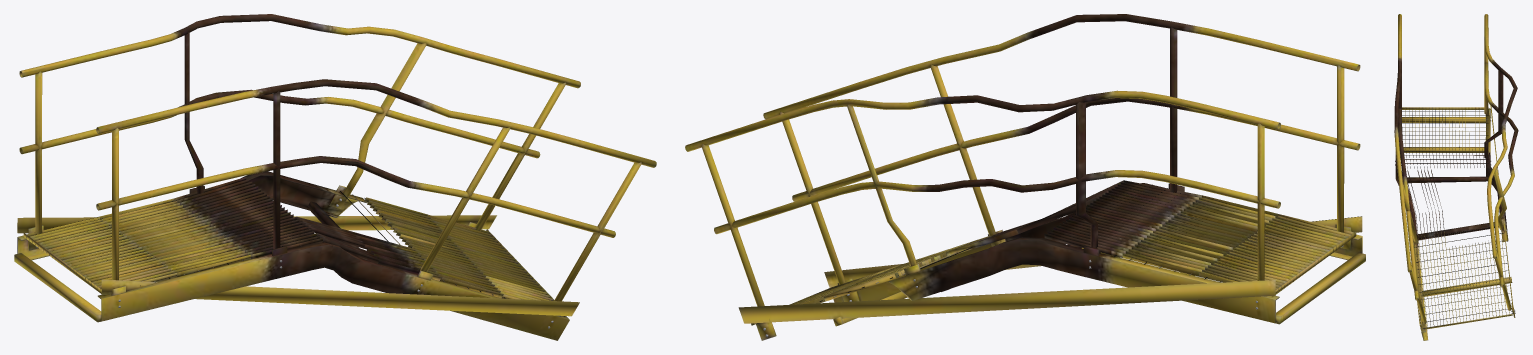
Rendered from industrial_walkway_torn_lod1.glb.
3 views of the same model, side by side, from view 1: azimuth 30°, elevation 25°; view 2: azimuth 150°, elevation 25°; view 3: azimuth 270°, elevation 25° (orthographic). The views are drawn at different scales.
Visible parts, largest first — view 1: industrial_walkway_torn_paint; view 2: industrial_walkway_torn_paint; view 3: industrial_walkway_torn_paint.
Boxes of the visible parts, <box> form: industrial_walkway_torn_paint: <box>14,14,656,340</box>; industrial_walkway_torn_paint: <box>685,14,1365,340</box>; industrial_walkway_torn_paint: <box>1394,14,1518,340</box>.
Size of the model in its own units: 3.9 by 2.26 by 1.3.
2 materials, 1 textured.
